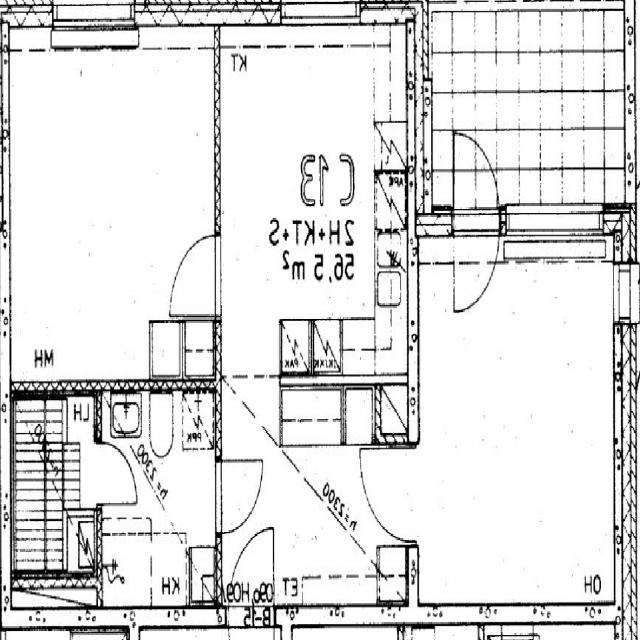door: (356, 448, 418, 541), (454, 204, 500, 320), (454, 120, 500, 236), (230, 523, 274, 625), (172, 235, 222, 316), (216, 461, 261, 532), (95, 443, 136, 503)
